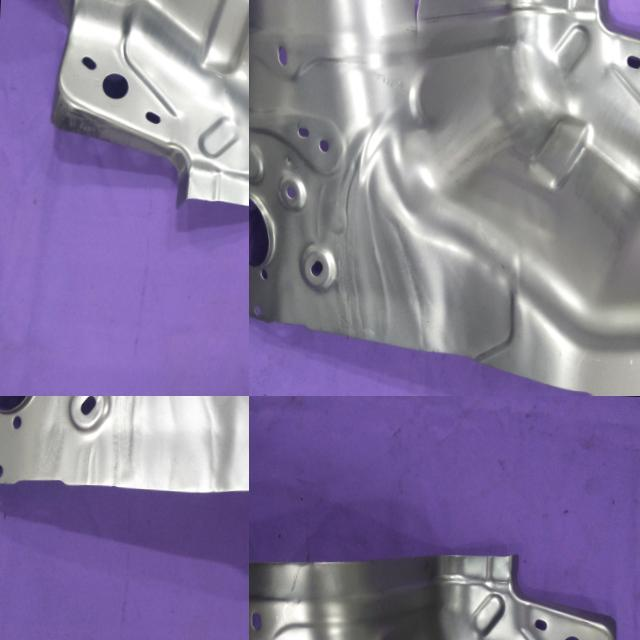Defect: (395, 0, 433, 64)
Healthy: (0, 0, 249, 225), (249, 537, 640, 640)
